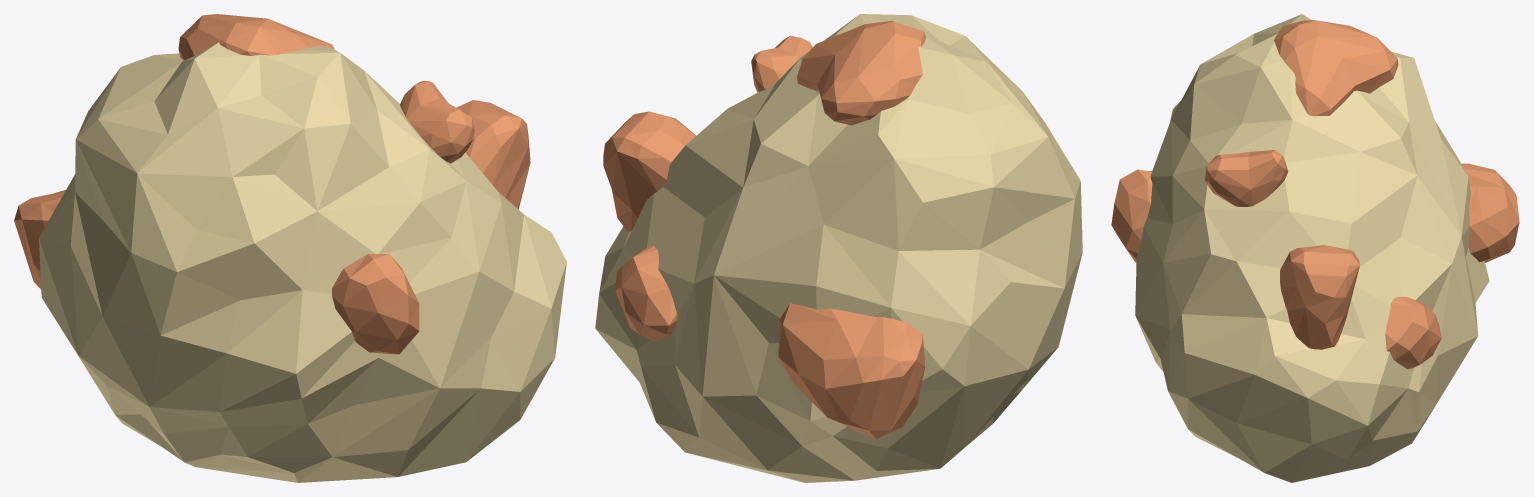
File: StoneOre (41).fbx
3 views of the same model, side by side, from view 1: azimuth 30°, elevation 25°; view 2: azimuth 150°, elevation 25°; view 3: azimuth 270°, elevation 25° (orthographic). The views are drawn at different scales.
Visible parts, largest first — view 1: Asteroid328; view 2: Asteroid328; view 3: Asteroid328.
Part boxes in pixels (left/top/right/bottom): Asteroid328: left=14, top=14, right=566, bottom=482; Asteroid328: left=595, top=14, right=1082, bottom=482; Asteroid328: left=1111, top=14, right=1519, bottom=482.
Bounding box in the file's own units: 446 × 451 × 418.
